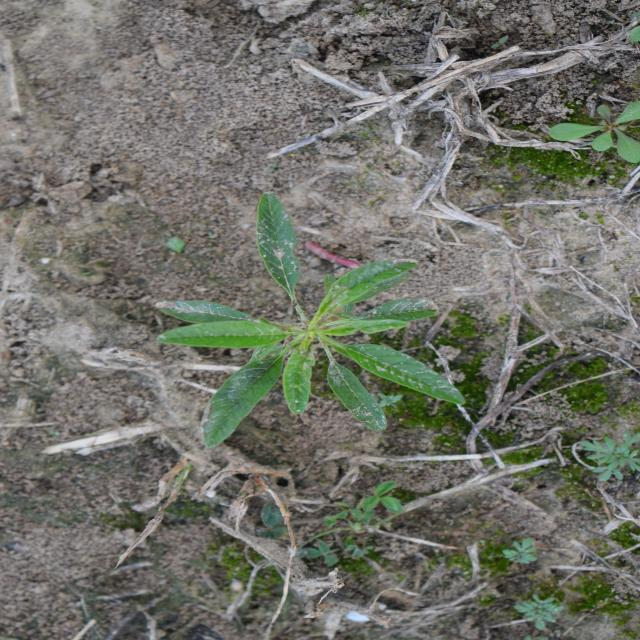Carpetweed: (550, 98, 638, 166)
Ragweed: (576, 432, 637, 486)
Waterhemp: (152, 191, 470, 452)
